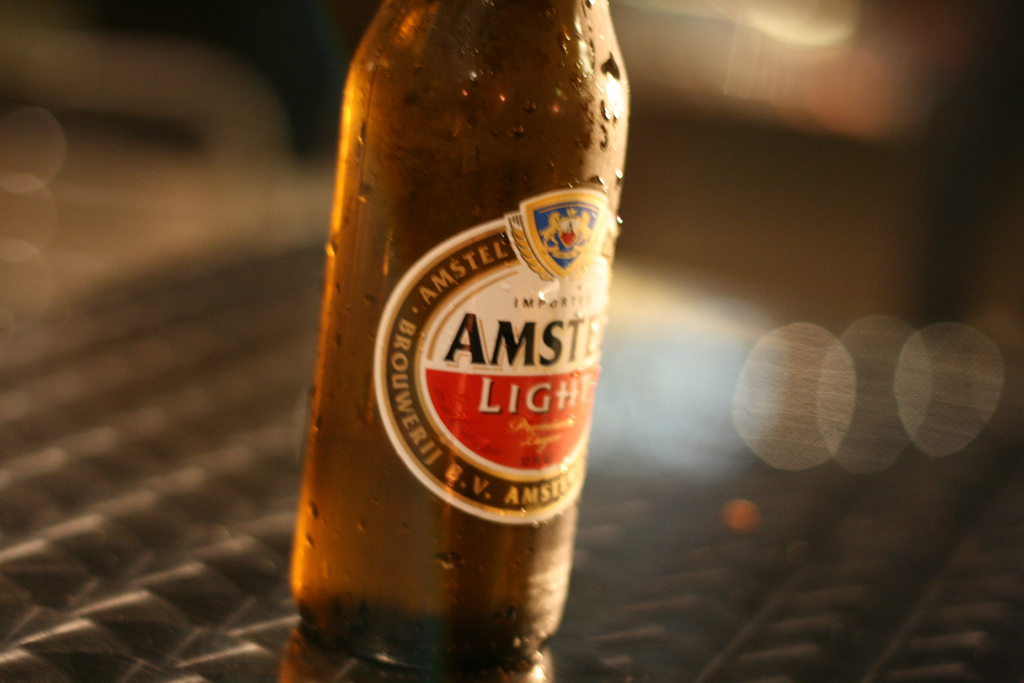Beer: (288, 0, 628, 669)
